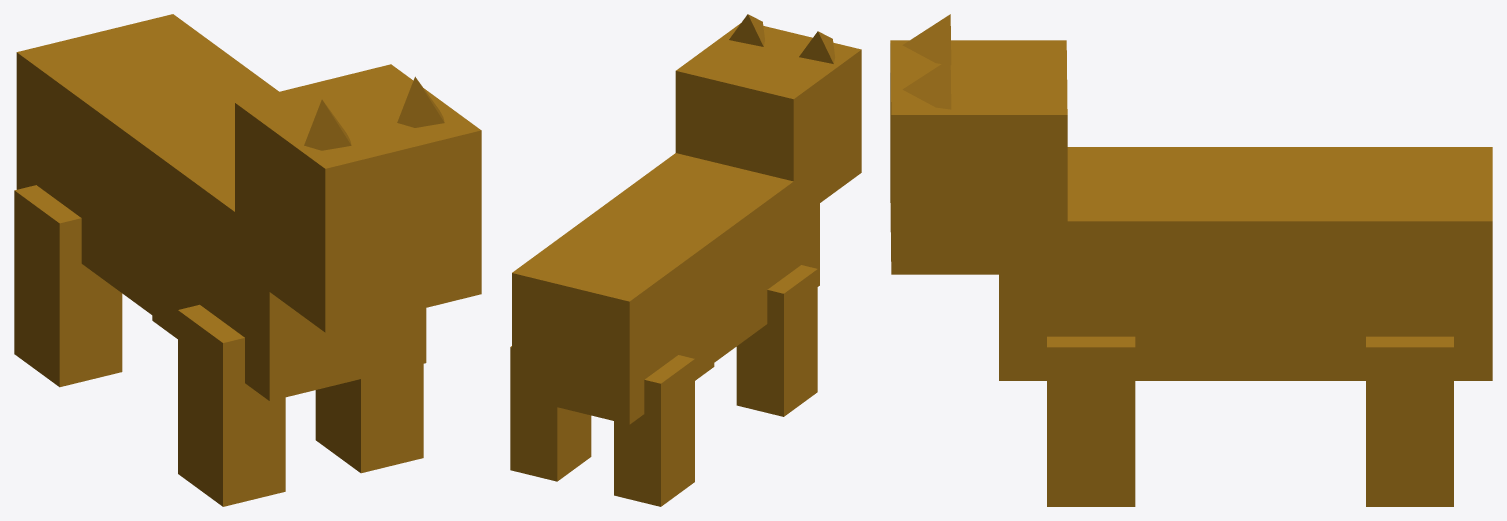
File: cat.obj
3 renders of one model, left to right at view 1: azimuth 30°, elevation 25°; view 2: azimuth 150°, elevation 25°; view 3: azimuth 270°, elevation 25°, orthographic. The views are drawn at different scales.
Parts seen in each view (by area): view 1: Body, Head, Leg3, Leg, Leg1, Tetrahedron, Tetrahedron1; view 2: Body, Head, Leg3, Leg, Leg2, Tetrahedron1, Tetrahedron; view 3: Body, Head, Leg1, Leg2, Tetrahedron1, Tetrahedron.
Boxes of the visible parts, bbox=[...] form: Body: bbox=[16, 14, 426, 400]; Head: bbox=[235, 64, 481, 332]; Leg3: bbox=[14, 185, 122, 387]; Leg: bbox=[178, 304, 285, 506]; Leg1: bbox=[315, 364, 423, 473]; Tetrahedron: bbox=[304, 99, 351, 150]; Tetrahedron1: bbox=[397, 76, 444, 127]; Body: bbox=[512, 153, 819, 424]; Head: bbox=[675, 23, 861, 202]; Leg3: bbox=[614, 355, 694, 506]; Leg: bbox=[736, 265, 817, 416]; Leg2: bbox=[510, 346, 591, 481]; Tetrahedron1: bbox=[729, 14, 764, 46]; Tetrahedron: bbox=[799, 31, 835, 63]; Body: bbox=[999, 147, 1492, 380]; Head: bbox=[890, 40, 1067, 274]; Leg1: bbox=[1047, 336, 1135, 506]; Leg2: bbox=[1366, 336, 1453, 506]; Tetrahedron1: bbox=[902, 58, 951, 109]; Tetrahedron: bbox=[902, 14, 951, 64].
Size of the model in its own units: 1.28 by 2.64 by 3.42.
